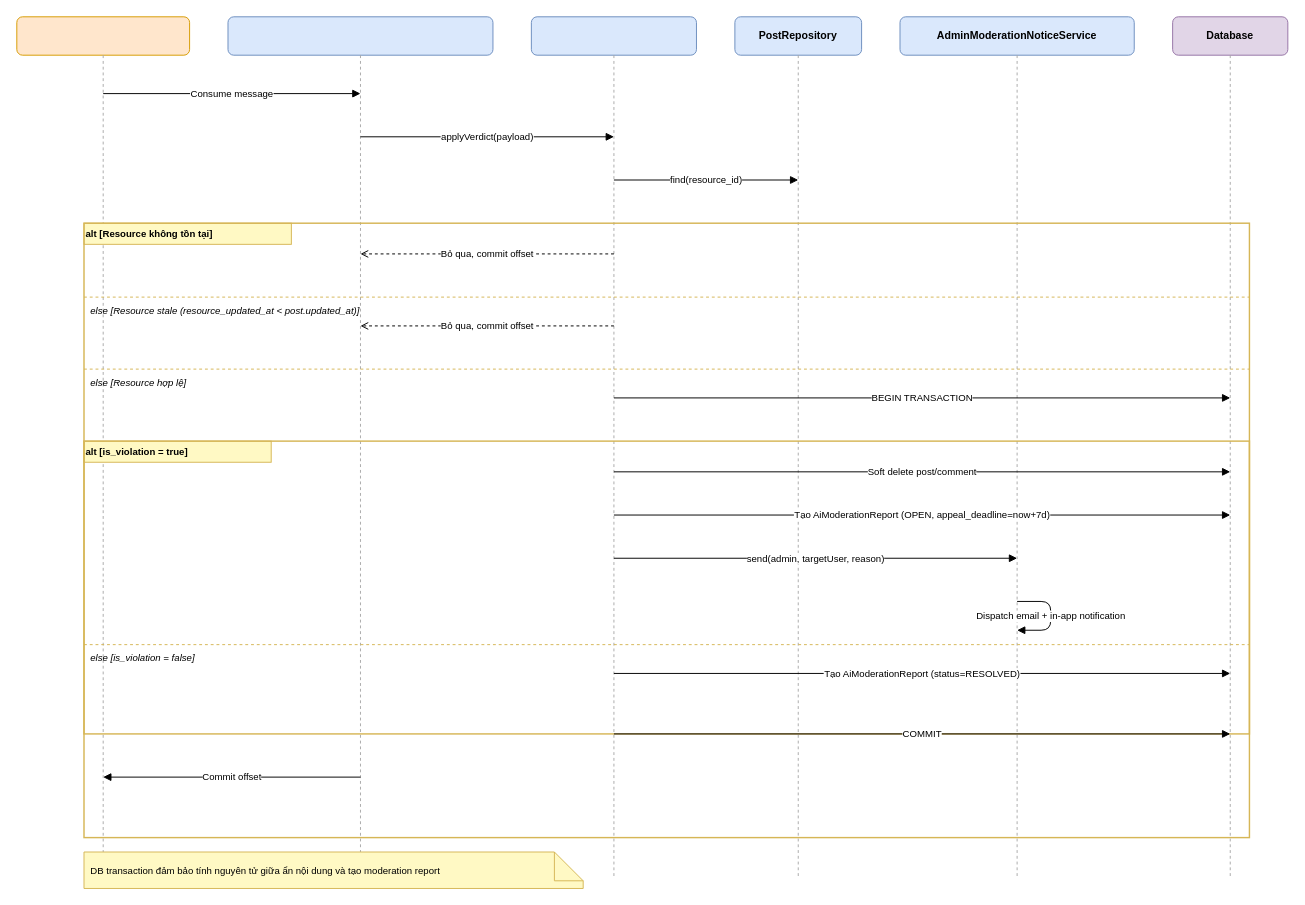
Some shapes in this 1305 by 905 pixel diagram are drawn without their labels. The centre of each missing label's shape, as x and y in pixels:
"AiModerationService" belongs at point 613,35.
"moderation.result.v1" belongs at point 103,35.
"ModerationResultProcessorCommand" belongs at point 360,35.
